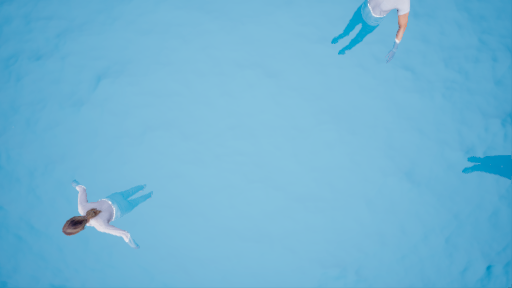person: (59, 171, 161, 252)
